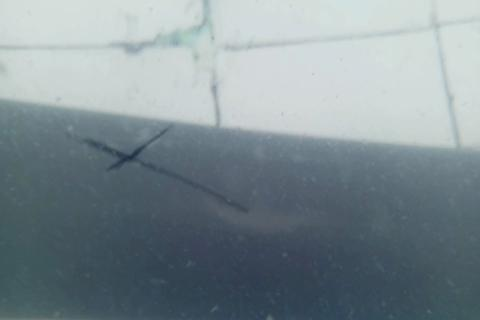keretakan: (63, 123, 251, 215)
